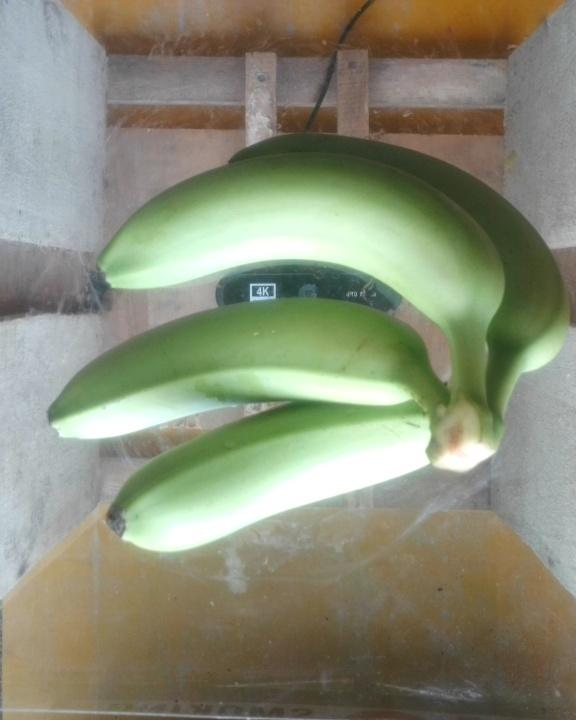SPOT: (41, 118, 576, 562)
